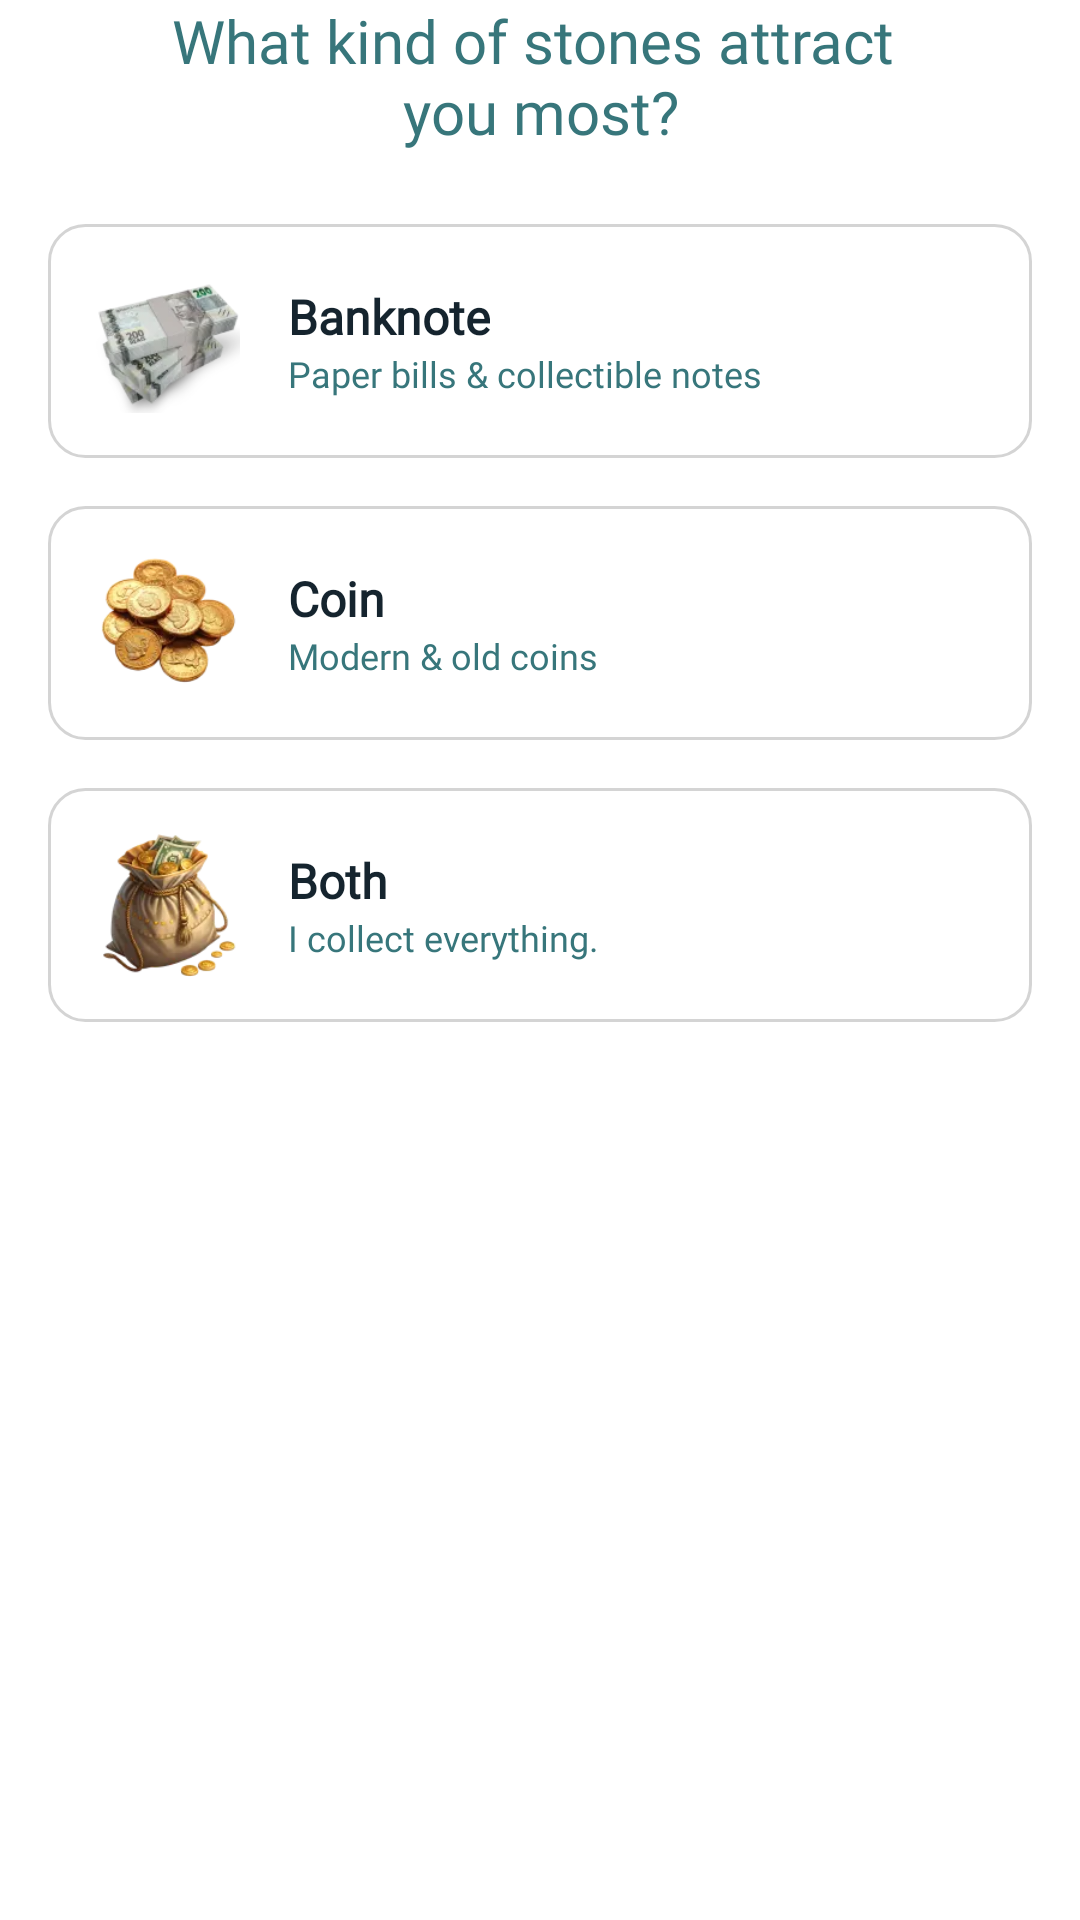

Locate icon controls on the screen. Image size 1080 × 1920, boxes as (x1, y1, x2, y2).
money: (99, 285, 238, 409)
